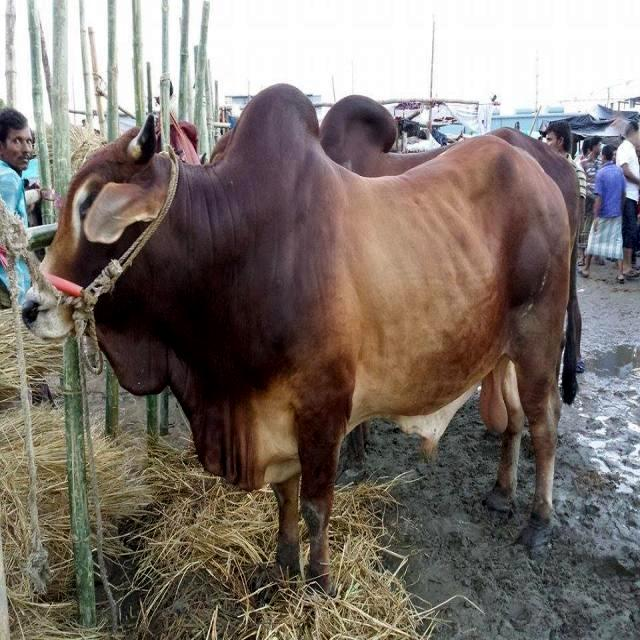COW: (22, 85, 574, 589)
